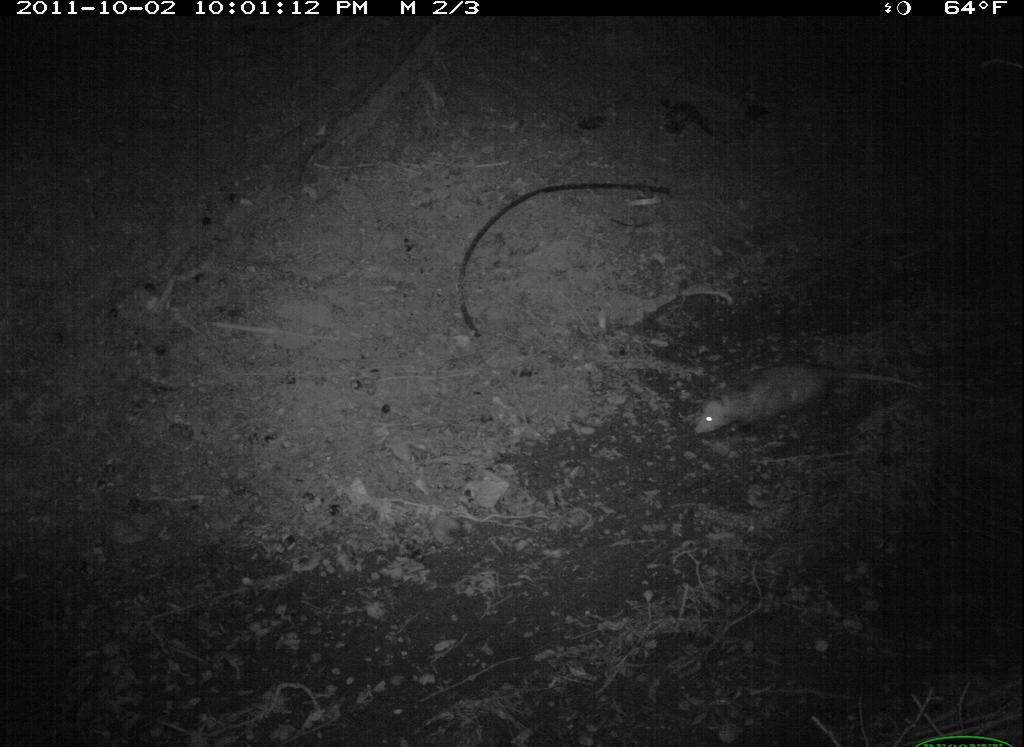opossum: (688, 349, 931, 463)
